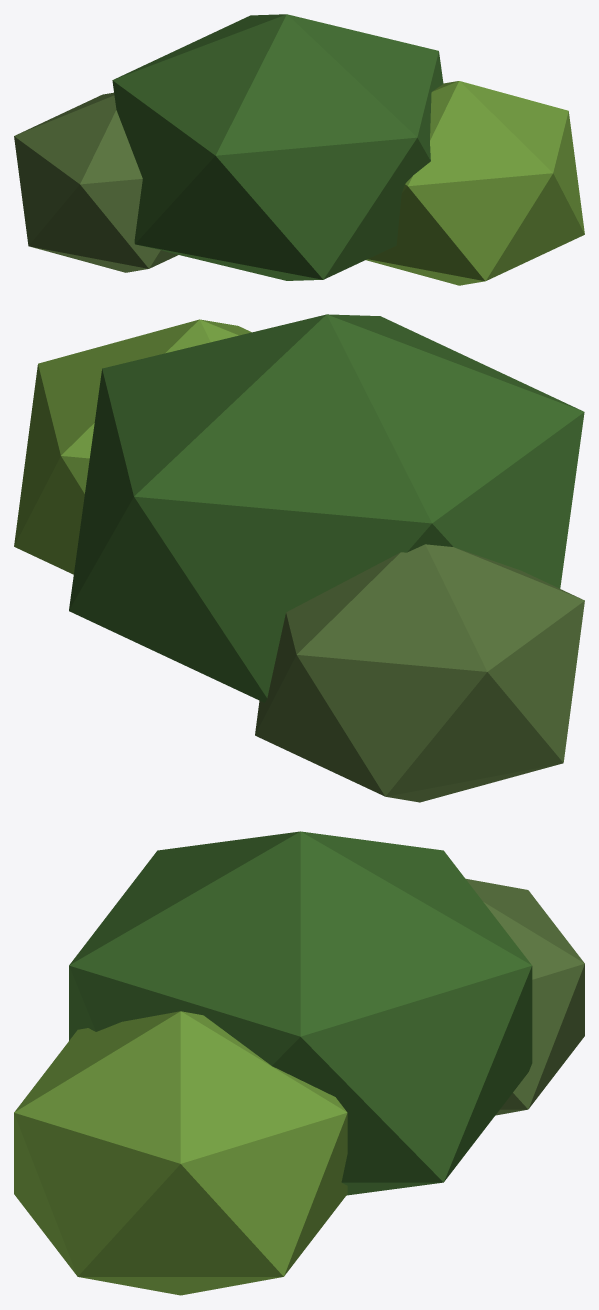
The model's file is bush_low.glb.
The picture shows the model from 3 angles, top to bottom: view 1: azimuth 30°, elevation 25°; view 2: azimuth 150°, elevation 25°; view 3: azimuth 270°, elevation 25°; orthographic projection. The views are drawn at different scales.
Parts seen in each view (by area): view 1: Shrub, Shrub.001, Shrub.002; view 2: Shrub, Shrub.002, Shrub.001; view 3: Shrub, Shrub.001, Shrub.002.
Boxes of the visible parts, x1=… form: Shrub: x1=112, y1=14, x2=443, y2=280; Shrub.001: x1=366, y1=81, x2=584, y2=285; Shrub.002: x1=14, y1=92, x2=177, y2=272; Shrub: x1=69, y1=314, x2=584, y2=702; Shrub.002: x1=255, y1=544, x2=584, y2=802; Shrub.001: x1=14, y1=319, x2=251, y2=574; Shrub: x1=69, y1=831, x2=532, y2=1195; Shrub.001: x1=14, y1=1011, x2=347, y2=1295; Shrub.002: x1=466, y1=879, x2=584, y2=1115.
Size of the model in its own units: 1.32 by 0.763 by 1.05.
